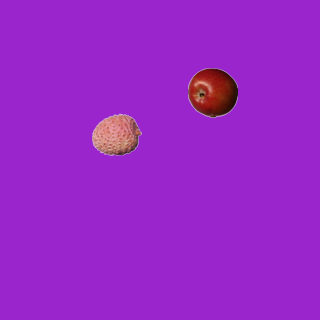Apple Braeburn: (187, 67, 237, 117)
Lychee: (91, 109, 141, 159)
